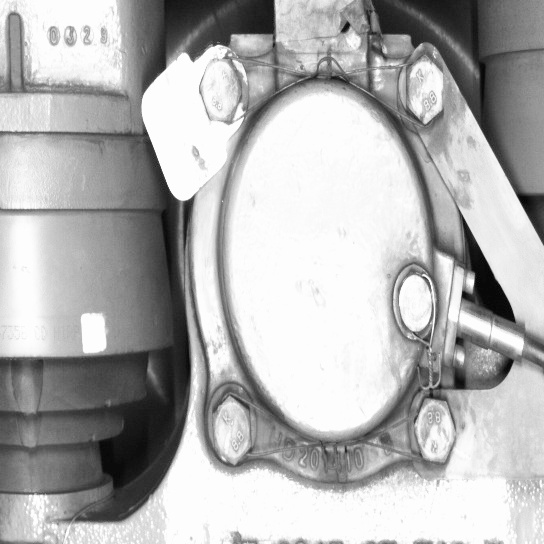IronWire: (194, 46, 450, 130), (208, 390, 464, 470)
Screw: (397, 46, 450, 130), (409, 392, 462, 470), (194, 52, 248, 128), (207, 390, 257, 470), (391, 265, 436, 342)
